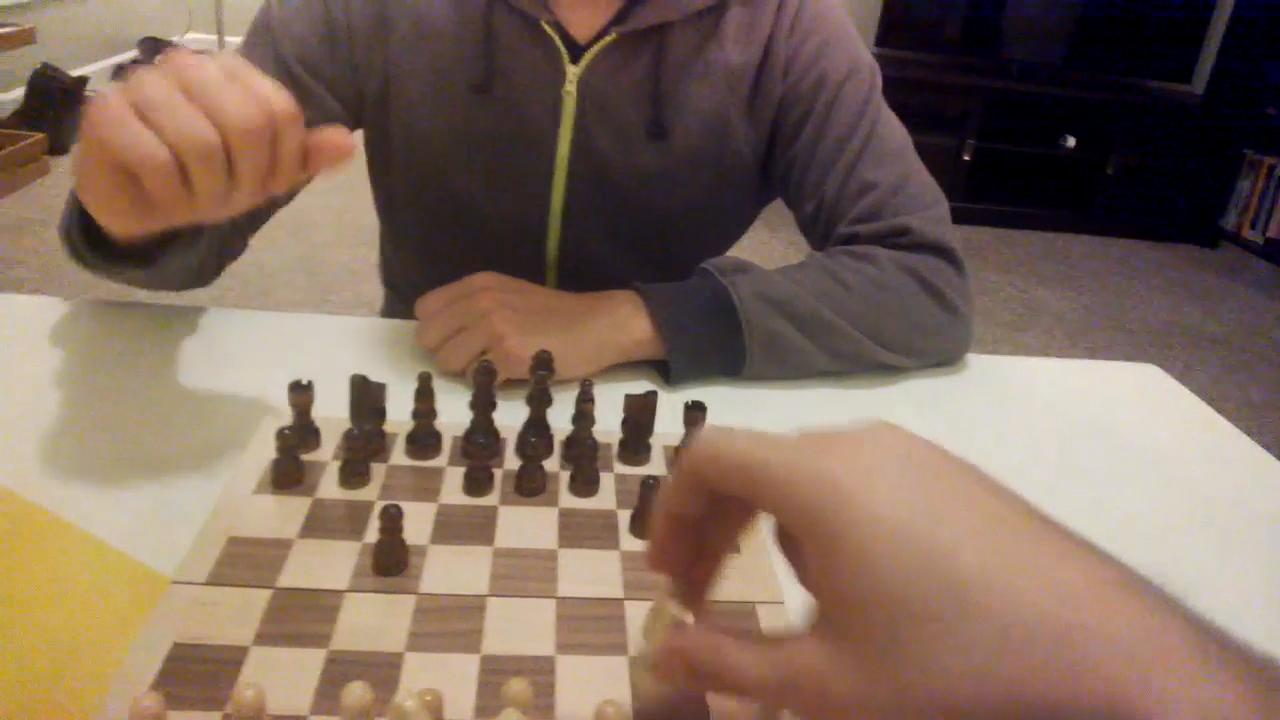hand: (634, 398, 1081, 720), (66, 49, 366, 248), (410, 258, 628, 389)
